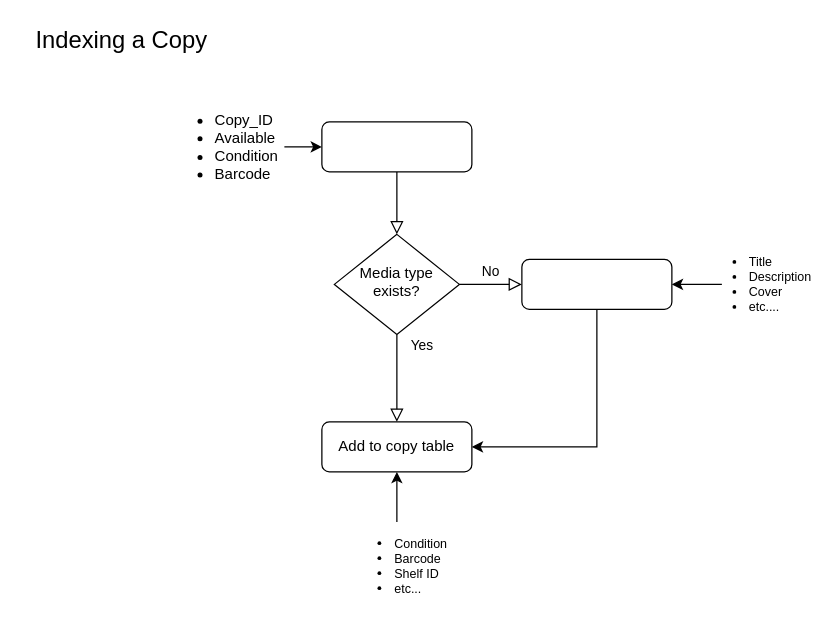
This 833x630 diagram has some shape labels left out. The centre of each missing label's shape, as x and y in pixels:
"Create media type" goes at pixel 596 283.
"Index new Copy" goes at pixel 396 146.
